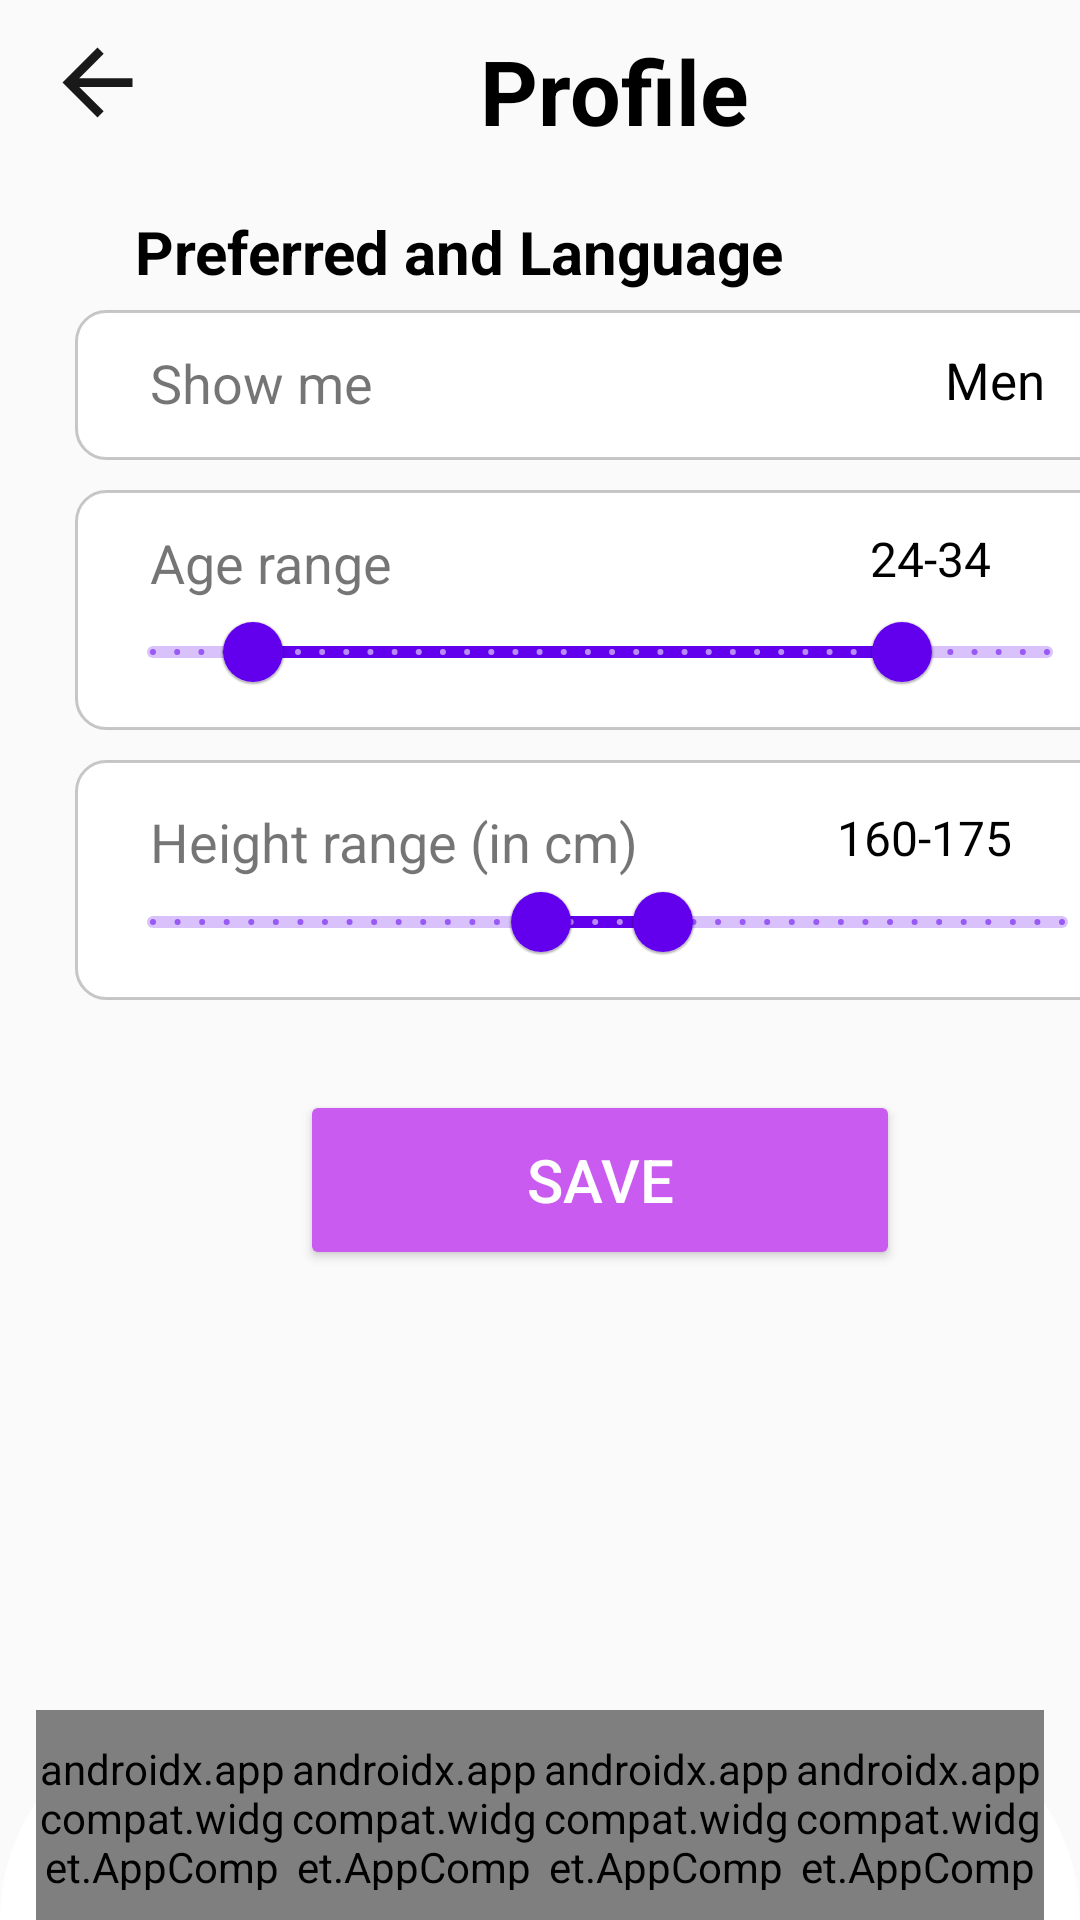

Screen size 1080px x 1920px. Icon name, then its center in pixels as (x,y):
back: (97,82)
